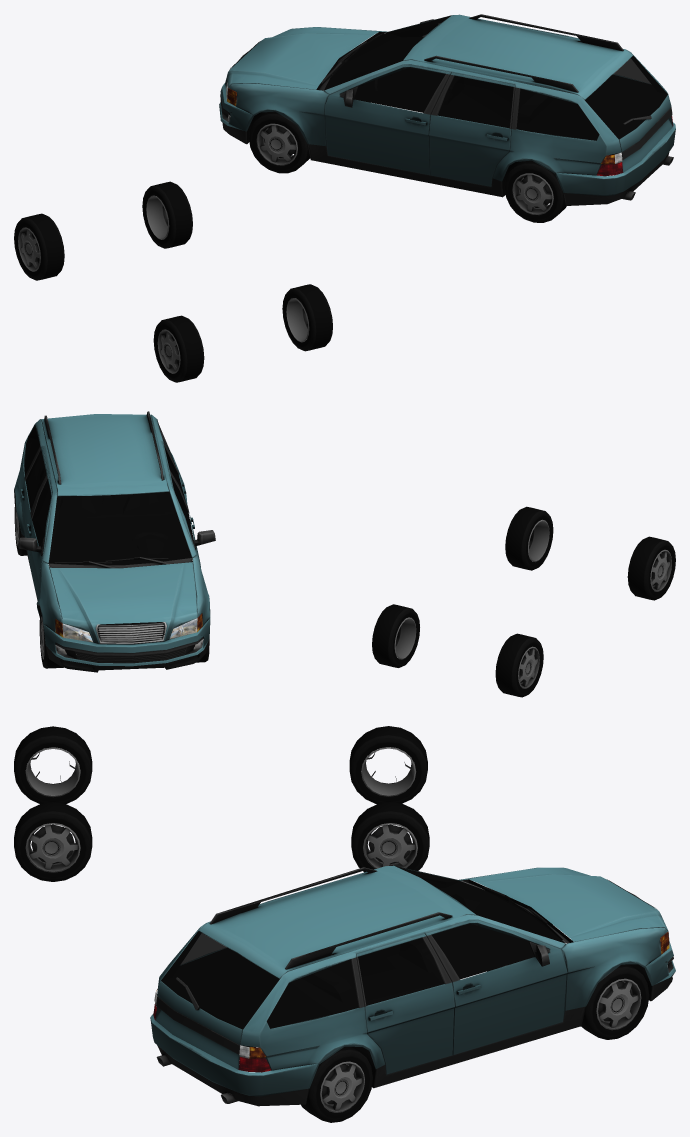
The model's file is generico-perua.glb.
The picture shows the model from 3 angles, top to bottom: view 1: azimuth 30°, elevation 25°; view 2: azimuth 150°, elevation 25°; view 3: azimuth 270°, elevation 25°; orthographic projection. The views are drawn at different scales.
Visible parts, largest first — view 1: Wagon Body, Wheel_A001 (×2), Wheel_A (×2), Wheel_A002, Wheel_A003; view 2: Wagon Body, Wheel_A, Wheel_A001, Wheel_A002, Wheel_A003; view 3: Wagon Body, Wheel_A003 (×2), Wheel_A002 (×2), Wheel_A, Wheel_A001.
Part boxes in pixels (box(x1,y1,x2,y2)): Wagon Body: box(219, 14, 675, 205); Wheel_A001 (×2): box(153, 160, 566, 382); Wheel_A (×2): box(14, 111, 310, 280); Wheel_A002: box(142, 181, 192, 248); Wheel_A003: box(282, 284, 332, 351); Wagon Body: box(14, 411, 215, 672); Wheel_A: box(495, 633, 543, 697); Wheel_A001: box(627, 536, 675, 600); Wheel_A002: box(372, 604, 419, 667); Wheel_A003: box(505, 506, 553, 570); Wagon Body: box(150, 865, 675, 1106); Wheel_A003 (×2): box(14, 802, 372, 1122); Wheel_A002 (×2): box(351, 802, 649, 1039); Wheel_A: box(349, 726, 427, 804); Wheel_A001: box(14, 726, 92, 803).
Bounding box in the file's own units: 6.36 × 1.38 × 5.15.
4 materials, 3 textured.
